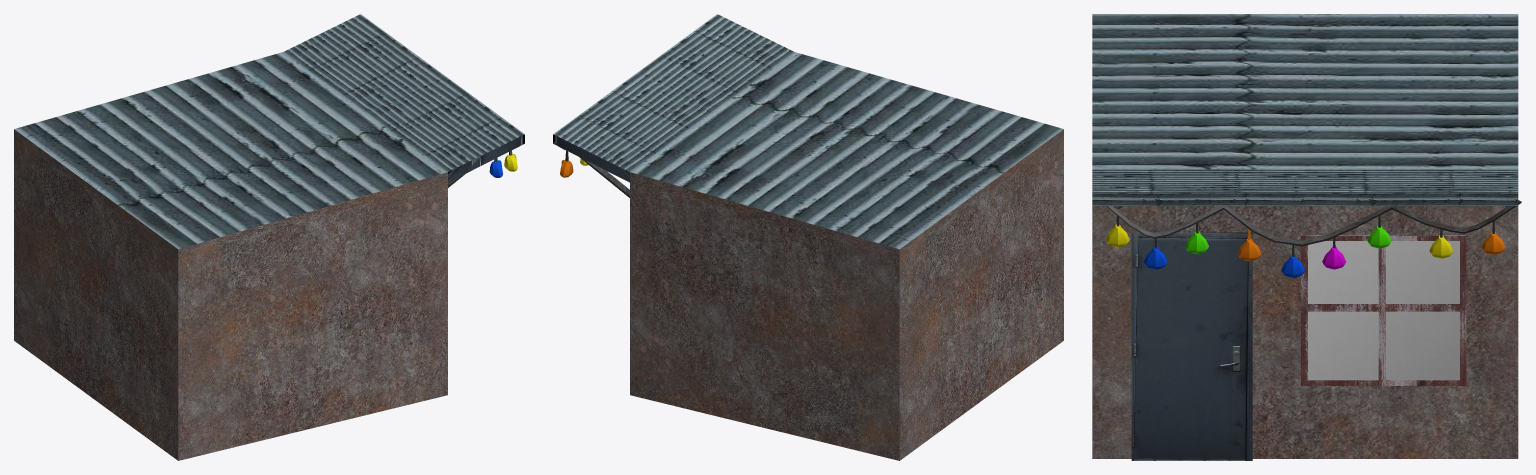
Rendered from TickTock.fbx.
3 renders of one model, left to right at view 1: azimuth 30°, elevation 25°; view 2: azimuth 150°, elevation 25°; view 3: azimuth 270°, elevation 25°, orthographic. The views are drawn at different scales.
Parts seen in each view (by area): view 1: polySurface126; view 2: polySurface126; view 3: polySurface126.
Part boxes in pixels (x1,y1,x2,y2): polySurface126: [14, 14, 524, 460]; polySurface126: [553, 14, 1063, 460]; polySurface126: [1092, 14, 1521, 460].
Bounding box in the file's own units: 19.8 × 13.18 × 16.34.
Materials: 12 (6 with a texture image).
